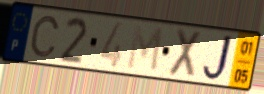2: (59, 15, 90, 64)
4: (98, 20, 125, 71)
C: (28, 14, 62, 59)
J: (200, 32, 235, 84)
M: (125, 23, 165, 75)
X: (166, 27, 205, 82)
